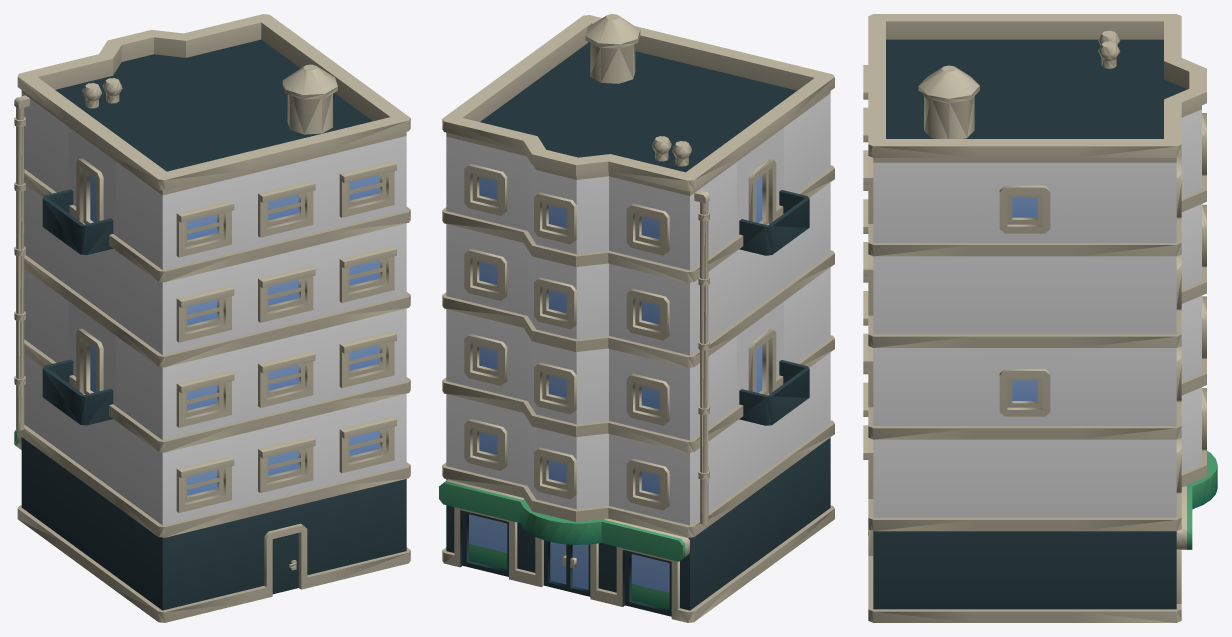
File: building-l.glb
The picture shows the model from 3 angles, left to right: view 1: azimuth 30°, elevation 25°; view 2: azimuth 150°, elevation 25°; view 3: azimuth 270°, elevation 25°; orthographic projection. The views are drawn at different scales.
Visible parts, largest first — view 1: building-l; view 2: building-l; view 3: building-l.
Boxes of the visible parts, x1,y1,x2,y2 form: building-l: [14, 14, 410, 622]; building-l: [439, 14, 834, 622]; building-l: [863, 14, 1217, 622].
Size of the model in its own units: 13.7 by 22.7 by 14.02.
